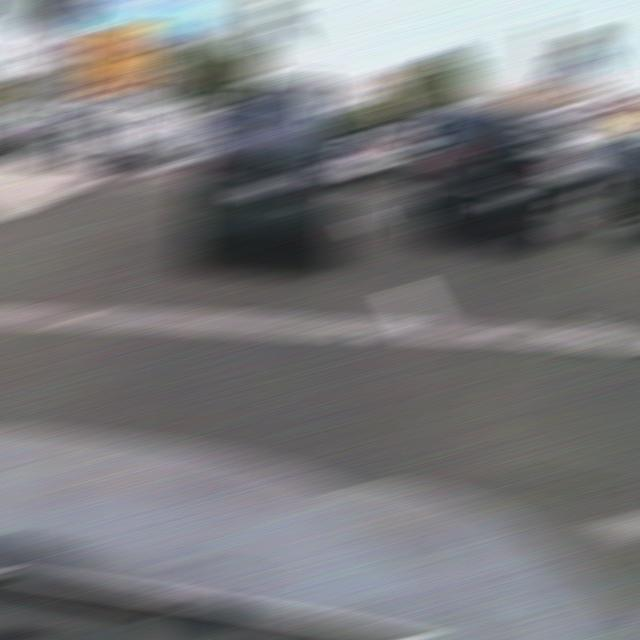noLeftTurn: (26, 40, 68, 68)
